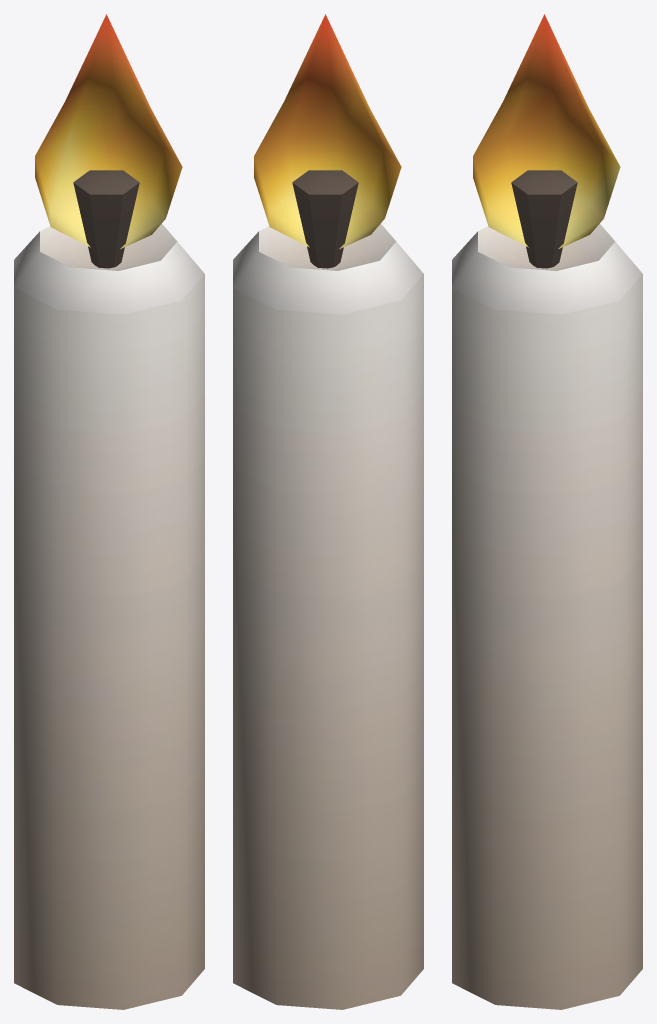
The model's file is kaykit-dungeon-remastered-candle-thin-lit-gltf.glb.
The picture shows the model from 3 angles, left to right: view 1: azimuth 30°, elevation 25°; view 2: azimuth 150°, elevation 25°; view 3: azimuth 270°, elevation 25°; orthographic projection.
Visible parts, largest first — view 1: candle_thin_lit; view 2: candle_thin_lit; view 3: candle_thin_lit.
Part boxes in pixels (x1=…): candle_thin_lit: x1=14, y1=14, x2=204, y2=1009; candle_thin_lit: x1=233, y1=14, x2=423, y2=1009; candle_thin_lit: x1=452, y1=14, x2=642, y2=1009.
Size of the model in its own units: 0.1932 by 1.05 by 0.1903.
1 material, 1 textured.
